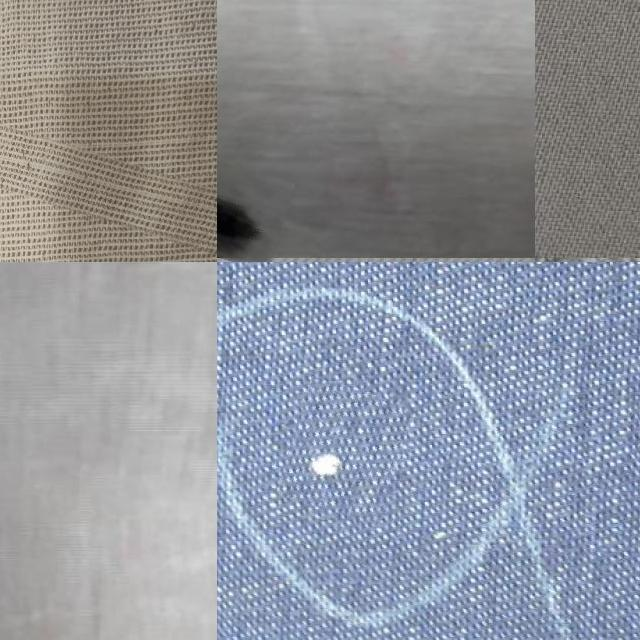Hole: (217, 157, 289, 262)
Thread_other: (0, 79, 217, 217), (284, 382, 408, 519)
